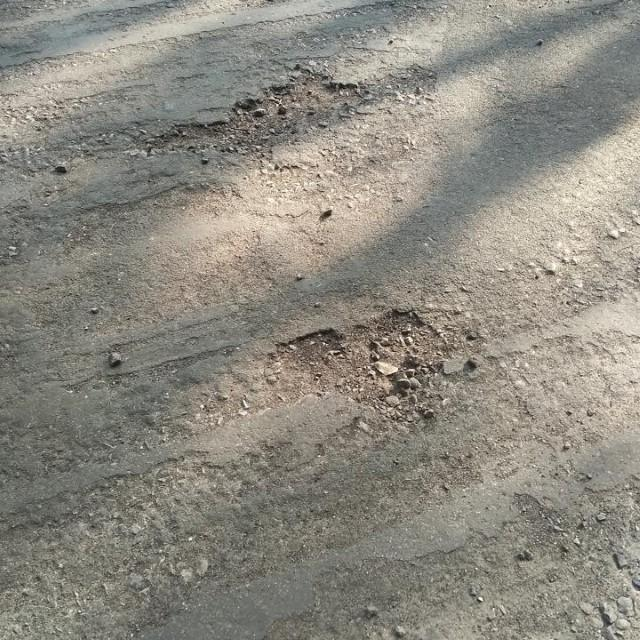Pothole: (149, 69, 433, 166), (286, 310, 467, 429)
